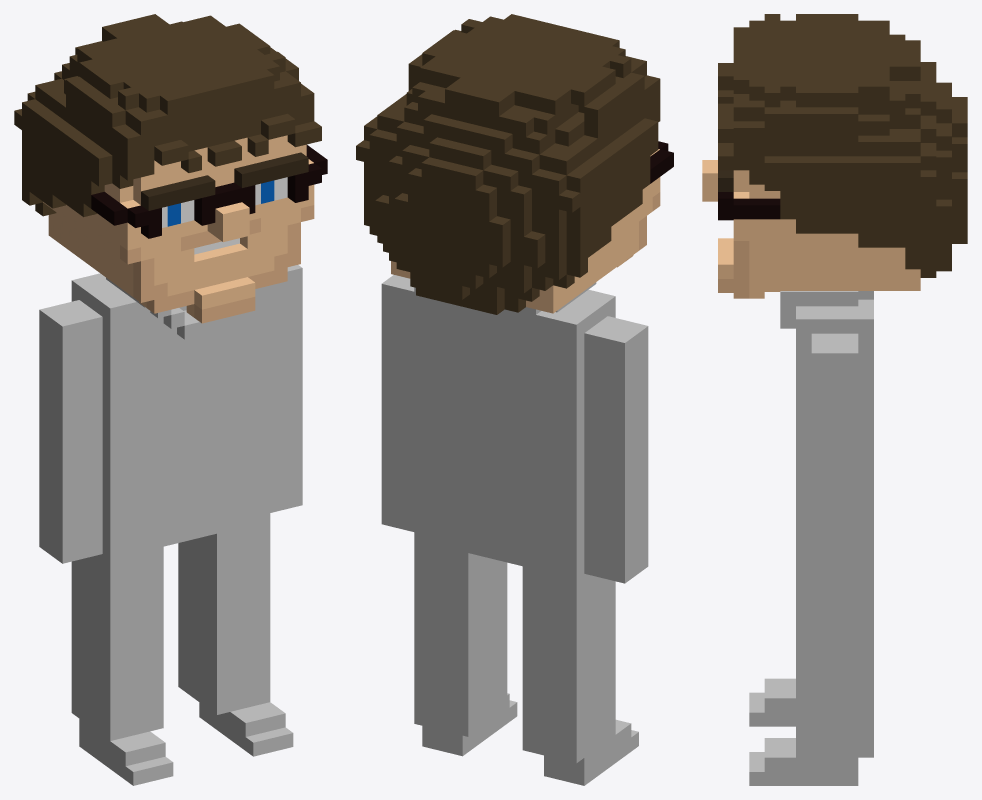
File: CEO.fbx
The picture shows the model from 3 angles, left to right: view 1: azimuth 30°, elevation 25°; view 2: azimuth 150°, elevation 25°; view 3: azimuth 270°, elevation 25°; orthographic projection.
Visible parts, largest first — view 1: Untitled.001, Untitled; view 2: Untitled.001, Untitled; view 3: Untitled, Untitled.001.
Boxes of the visible parts, <box> form: Untitled.001: <box>39,265,302,785</box>; Untitled: <box>14,14,327,323</box>; Untitled.001: <box>381,275,648,785</box>; Untitled: <box>356,14,673,314</box>; Untitled: <box>702,14,967,298</box>; Untitled.001: <box>749,291,873,785</box>.
Size of the model in its own units: 180 by 490 by 170.
